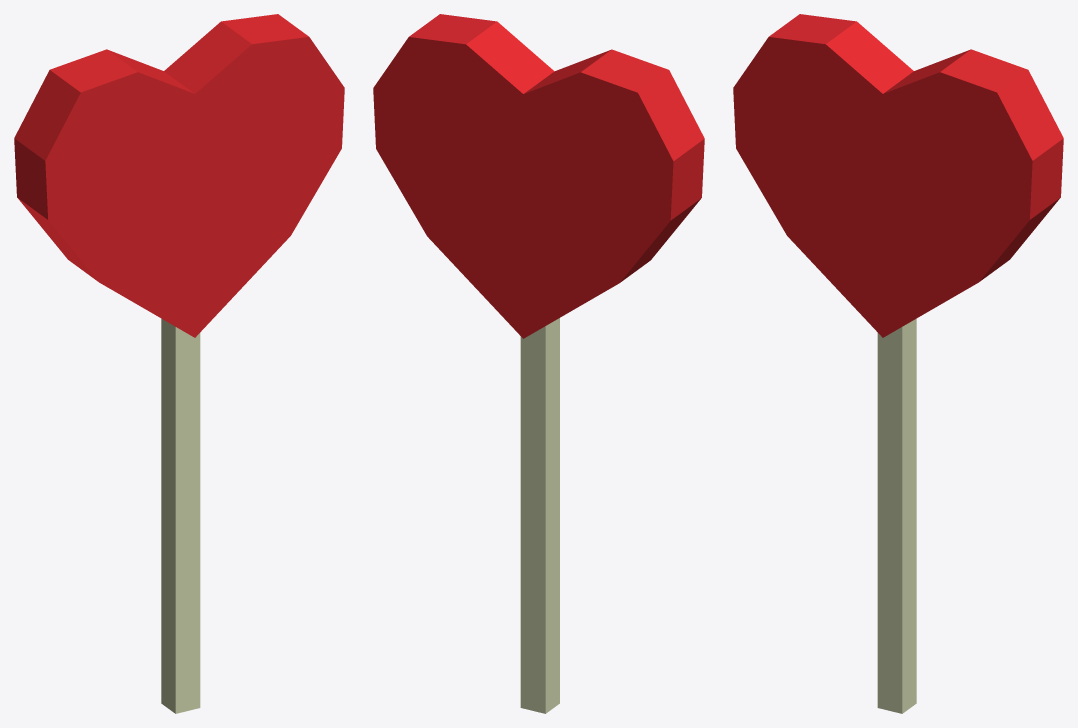
File: lolipop_heart.fbx
The picture shows the model from 3 angles, left to right: view 1: azimuth 30°, elevation 25°; view 2: azimuth 150°, elevation 25°; view 3: azimuth 330°, elevation 25°; orthographic projection.
Visible parts, largest first — view 1: lolipop_heart; view 2: lolipop_heart; view 3: lolipop_heart.
Part boxes in pixels (x1,y1,x2,y2): lolipop_heart: (14, 14, 344, 713); lolipop_heart: (373, 14, 704, 713); lolipop_heart: (733, 14, 1063, 713).
Size of the model in its own units: 47.53 by 99.78 by 8.57.
